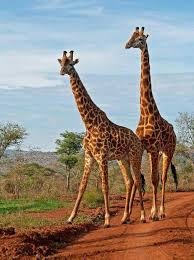giraffe: (56, 48, 149, 228), (122, 23, 180, 221)
